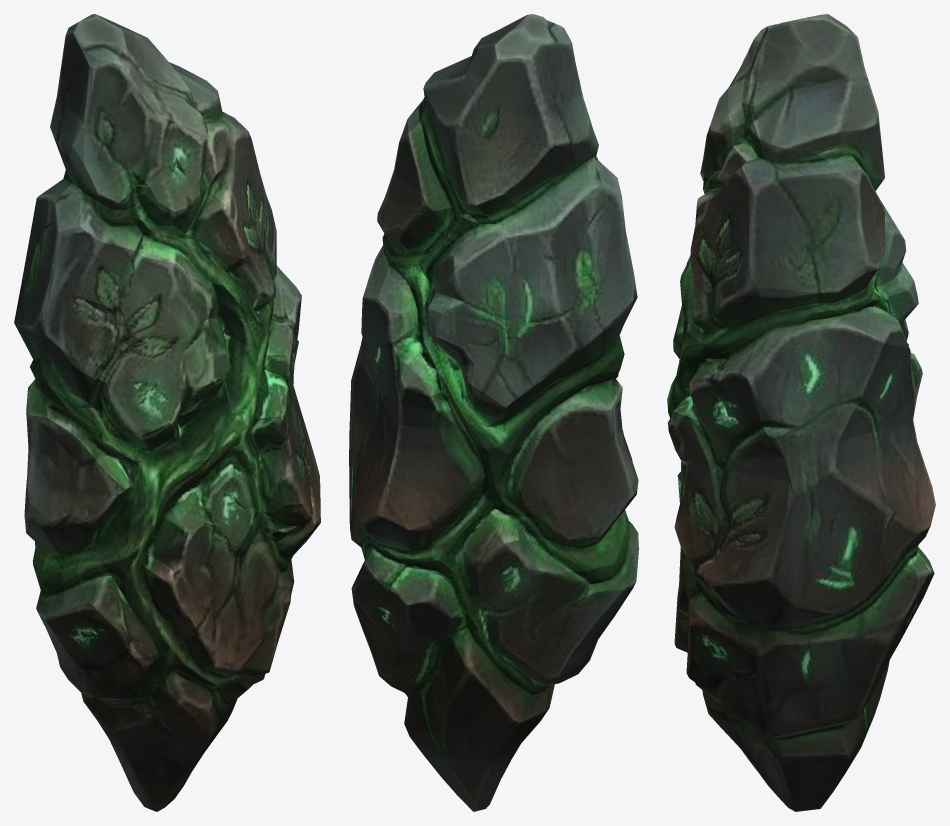
Rendered from runestone_verdant_lod0.glb.
The picture shows the model from 3 angles, left to right: view 1: azimuth 30°, elevation 25°; view 2: azimuth 150°, elevation 25°; view 3: azimuth 270°, elevation 25°; orthographic projection. The views are drawn at different scales.
Visible parts, largest first — view 1: runestone_verdant_lod0; view 2: runestone_verdant_lod0; view 3: runestone_verdant_lod0.
Boxes of the visible parts, x1,y1,x2,y2 form: runestone_verdant_lod0: (14,14,320,811); runestone_verdant_lod0: (349,14,638,811); runestone_verdant_lod0: (667,14,935,811).
Bounding box in the file's own units: 0.9381 × 2.5 × 0.7868.
Materials: 1 (1 with a texture image).
